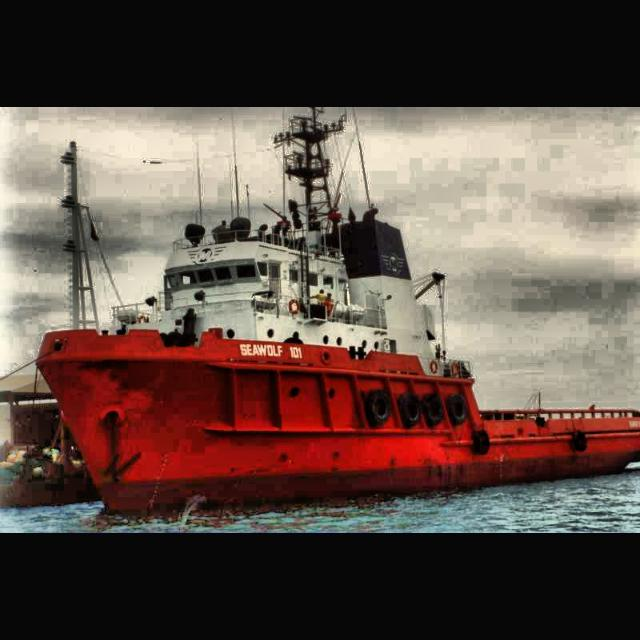anchor_handling_tug_supply: (34, 205, 640, 520)
